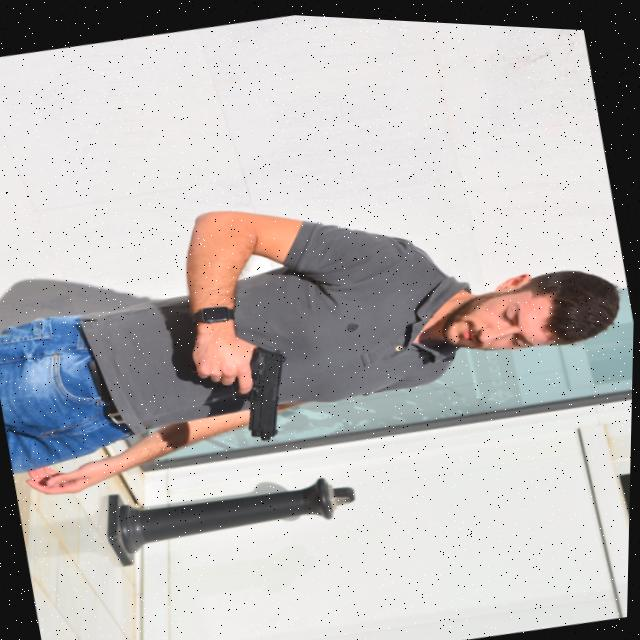pistol: (222, 336, 303, 444)
